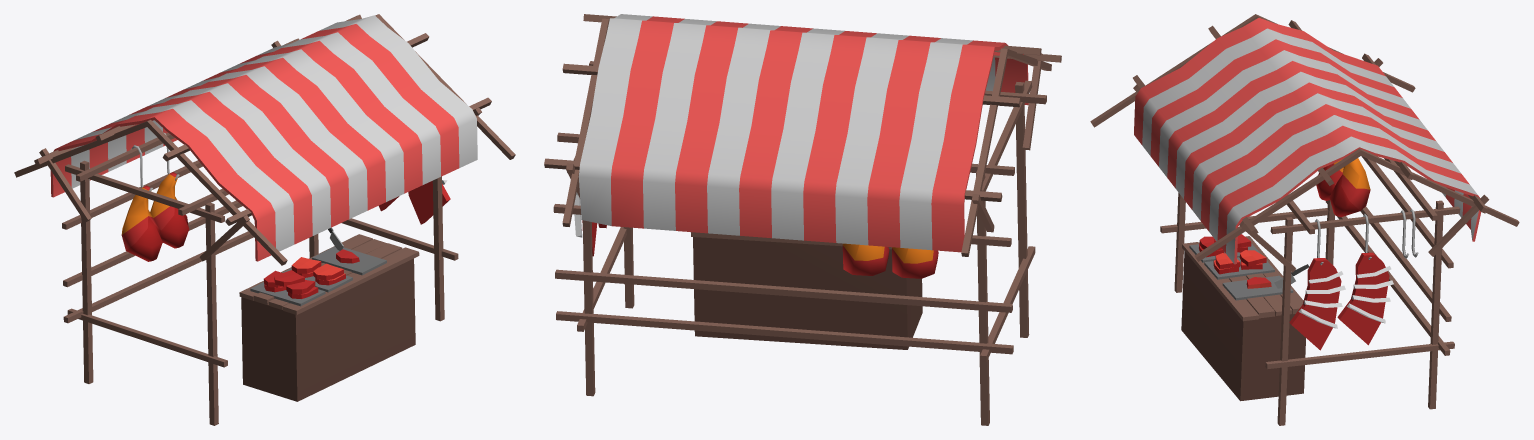
File: mission.glb
3 views of the same model, side by side, from view 1: azimuth 30°, elevation 25°; view 2: azimuth 150°, elevation 25°; view 3: azimuth 270°, elevation 25° (orthographic). The views are drawn at different scales.
Visible parts, largest first — view 1: stall_001; view 2: stall_001; view 3: stall_001.
Part boxes in pixels (x1,y1,x2,y2): stall_001: (14,14,515,425); stall_001: (544,14,1061,425); stall_001: (1090,14,1519,425).
Size of the model in its own units: 3.77 by 2.63 by 3.73.
1 material, 1 textured.
